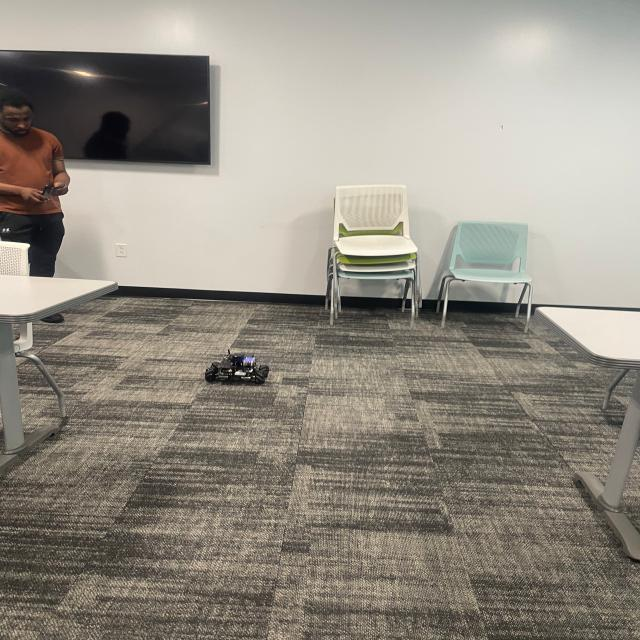ArduinoCar3: (200, 347, 270, 386)
